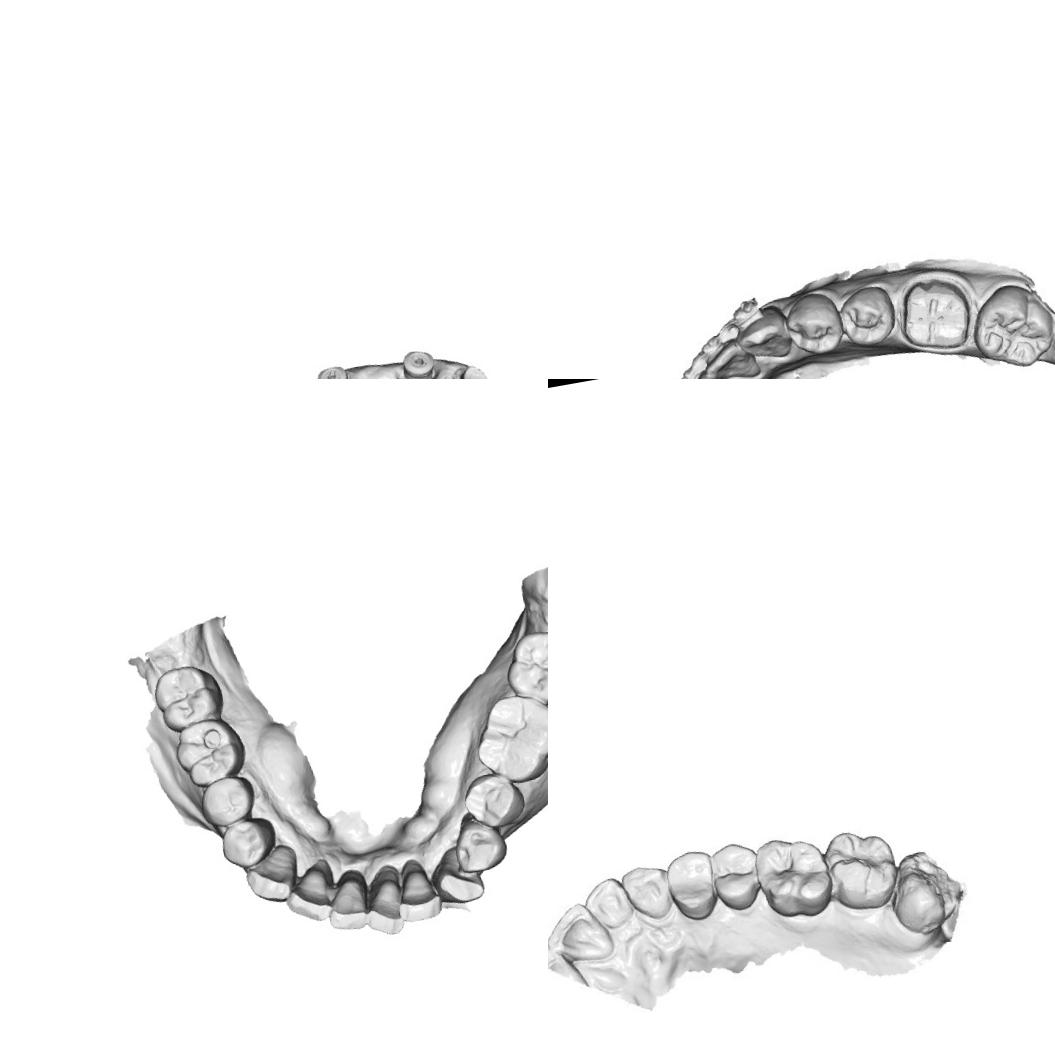canine: (424, 844, 490, 911), (239, 840, 303, 908), (619, 862, 673, 922), (736, 312, 793, 363)
crown: (888, 266, 982, 364), (446, 358, 495, 379)
implant_minus: (394, 344, 444, 379), (310, 359, 357, 379)
incisor: (388, 857, 446, 926), (548, 901, 610, 964), (279, 859, 336, 926), (358, 868, 409, 940), (320, 870, 373, 934), (584, 876, 638, 928), (703, 339, 763, 379), (685, 370, 743, 379)
molar: (465, 684, 548, 792), (967, 278, 1055, 372), (754, 830, 836, 916), (820, 823, 899, 909), (168, 714, 250, 792), (147, 658, 228, 734), (892, 850, 959, 934), (496, 621, 548, 712)
premolar: (456, 767, 530, 835), (214, 810, 282, 873), (708, 842, 764, 914), (196, 770, 261, 830), (449, 815, 511, 877), (666, 850, 719, 920), (836, 284, 894, 346), (786, 294, 844, 356)
